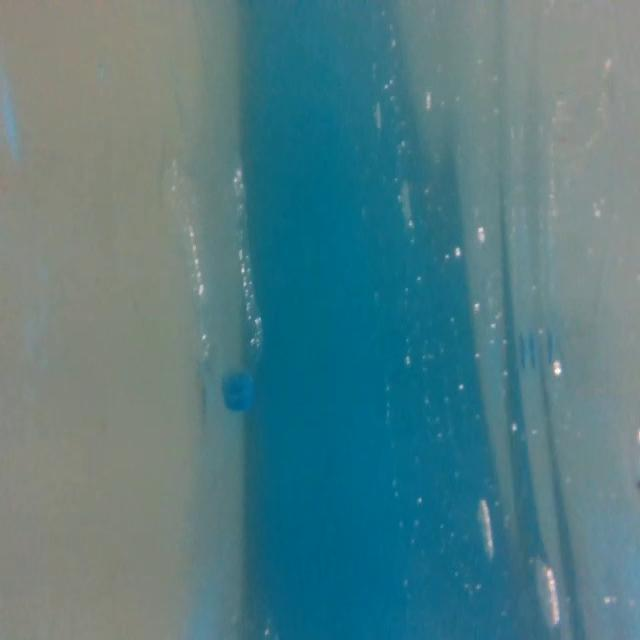plastic bottle: (157, 139, 276, 416)
